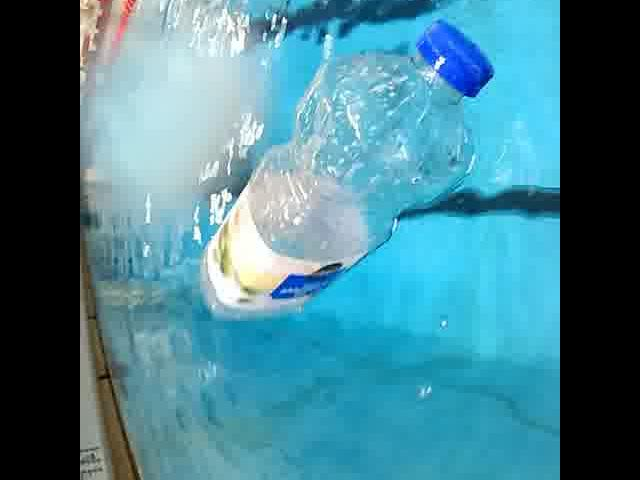Can: (190, 11, 502, 326)
